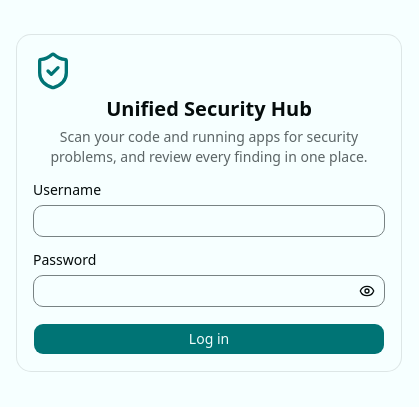
LoginScreen › says "Wrong username or password." on a 401, without saying which one was wrong
Type "demo" into the field labelled "Username". click: (209, 221)
box: [33, 205, 385, 237]
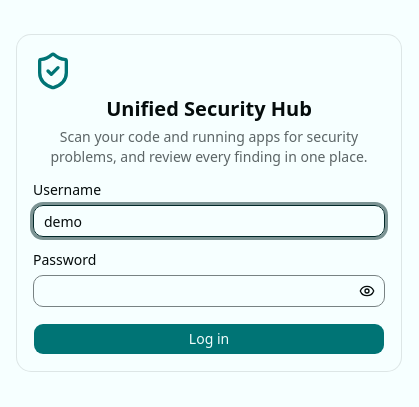
Type "nope" into the password field labelled "Password". click: (209, 291)
box: [33, 275, 385, 307]
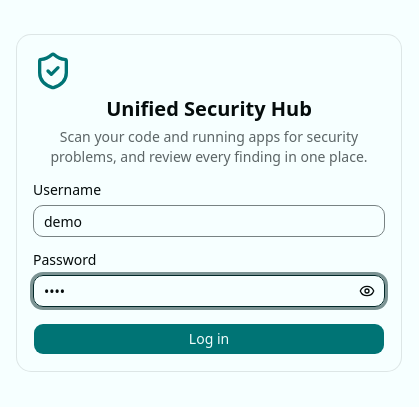
Click the button "Log in". click: (209, 339)
box: [33, 323, 385, 355]
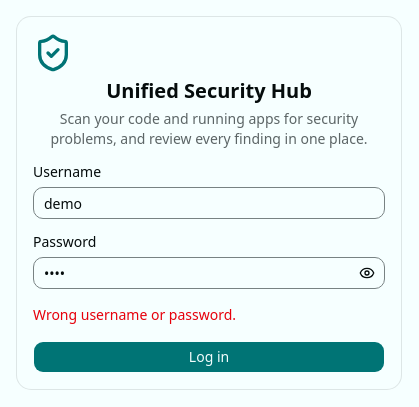
Expected: the message does not show "No such user", [33, 305, 236, 324]
Expected: the message reads "Wrong username or password.", [33, 305, 236, 324]
